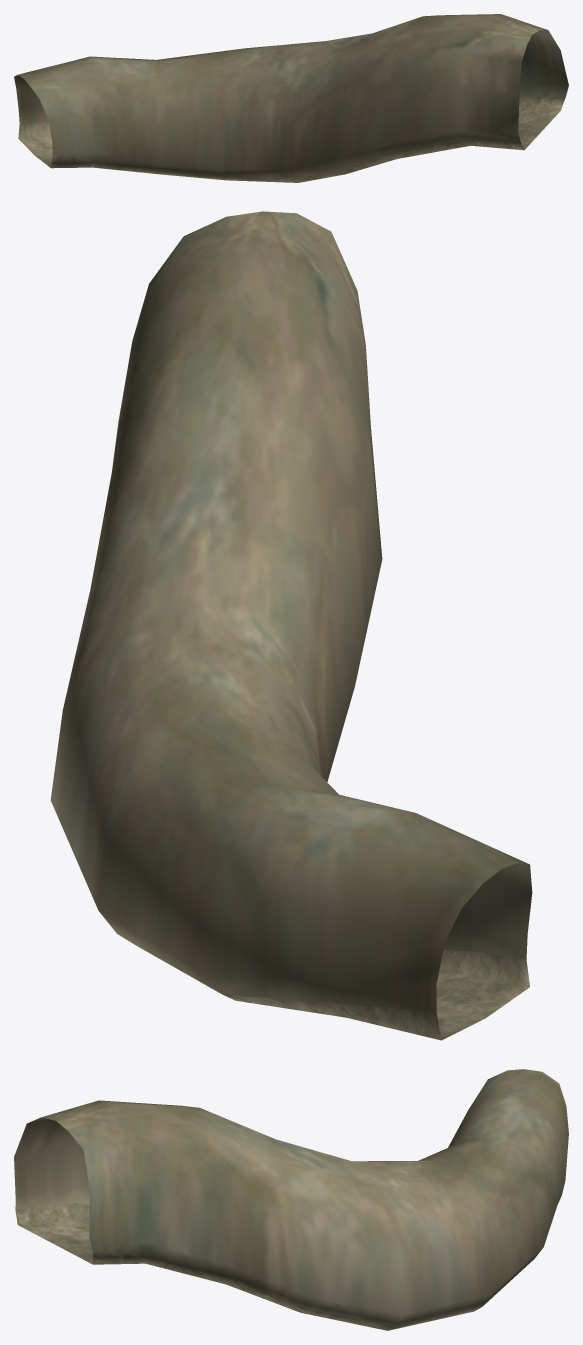
File: EKH_JAIL_PS_JA_GR_LINE169.fbx
3 views of the same model, one above another, from view 1: azimuth 30°, elevation 25°; view 2: azimuth 150°, elevation 25°; view 3: azimuth 270°, elevation 25° (orthographic). The views are drawn at different scales.
Parts seen in each view (by area): view 1: EKH_JAIL_PS_JA_GR_LINE169; view 2: EKH_JAIL_PS_JA_GR_LINE169; view 3: EKH_JAIL_PS_JA_GR_LINE169.
Boxes of the visible parts, x1,y1,x2,y2 form: EKH_JAIL_PS_JA_GR_LINE169: (14,14,568,182); EKH_JAIL_PS_JA_GR_LINE169: (50,211,532,1040); EKH_JAIL_PS_JA_GR_LINE169: (14,1069,568,1330).
Bounding box in the file's own units: 100327 × 57628 × 109714.
Materials: 1 (1 with a texture image).
